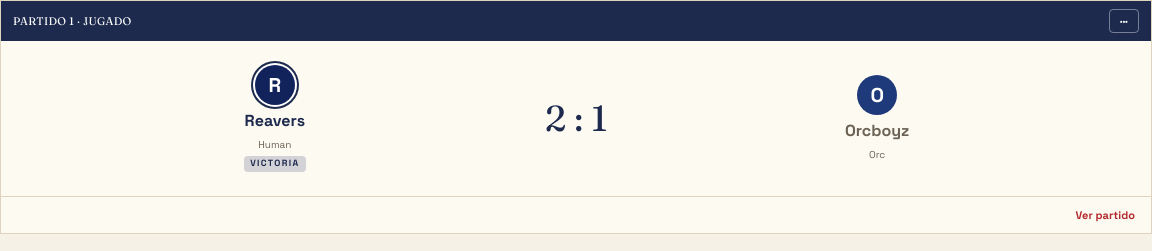
MatchCard — ··· overflow menu (MAW-1) › gates 'Corregir resultado' to participant/admin on a played fixture
What coordinates should you click on to do the following:
click the button named "Más acciones"
I would click on:
 (1124, 21)
Its box is [1109,9,1139,33].
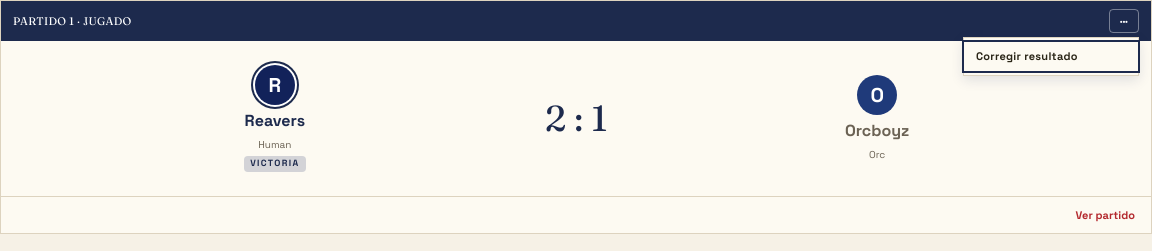
Expected: the menu item "Corregir resultado" is shown, [964,42,1138,70]
